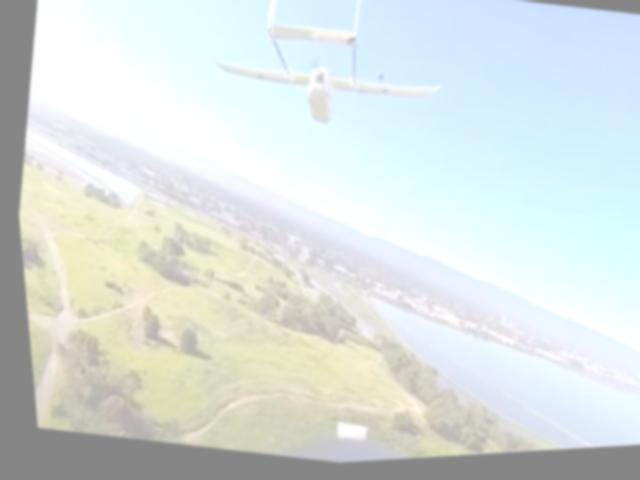iha: (194, 0, 471, 156)
